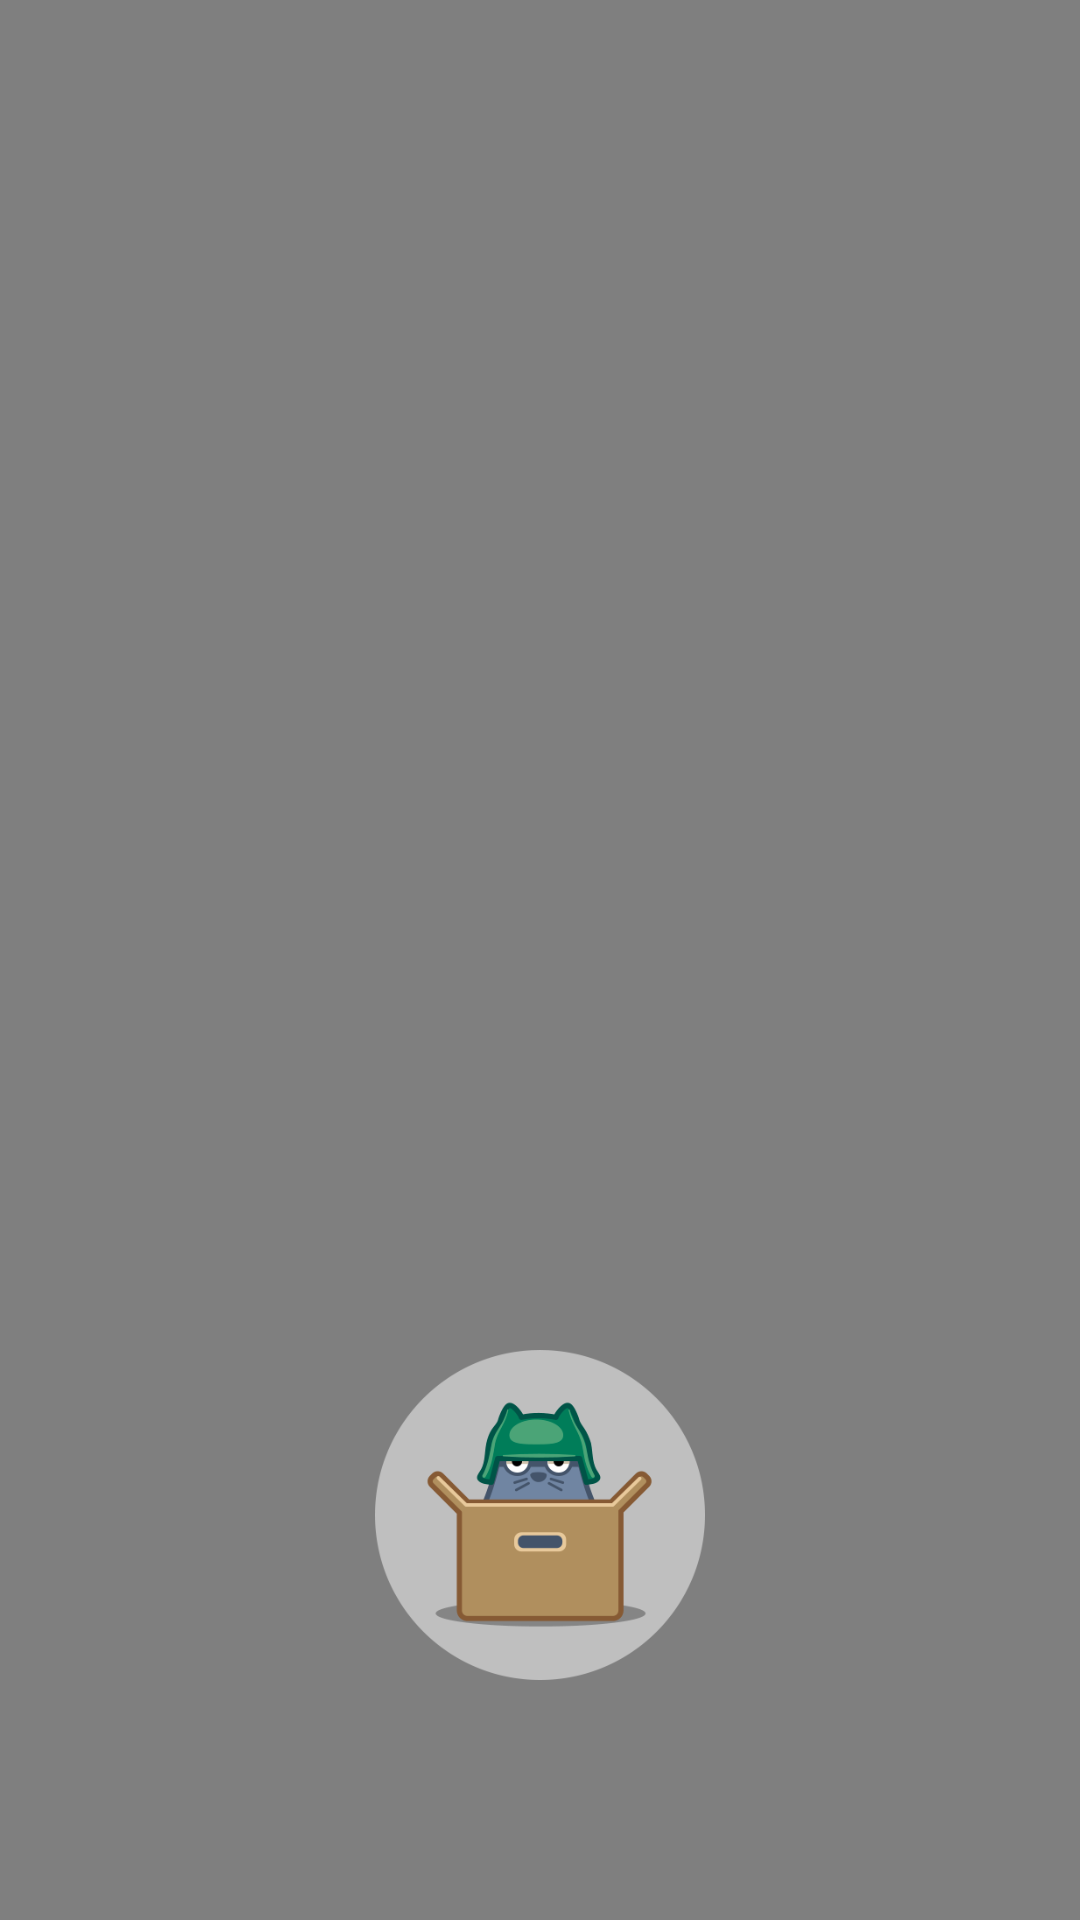

Icon bounding boxes for this 1080px×1920px phone screenshot, format (x1, y1, x2, y2):
cat box: (375, 1350, 705, 1680)
